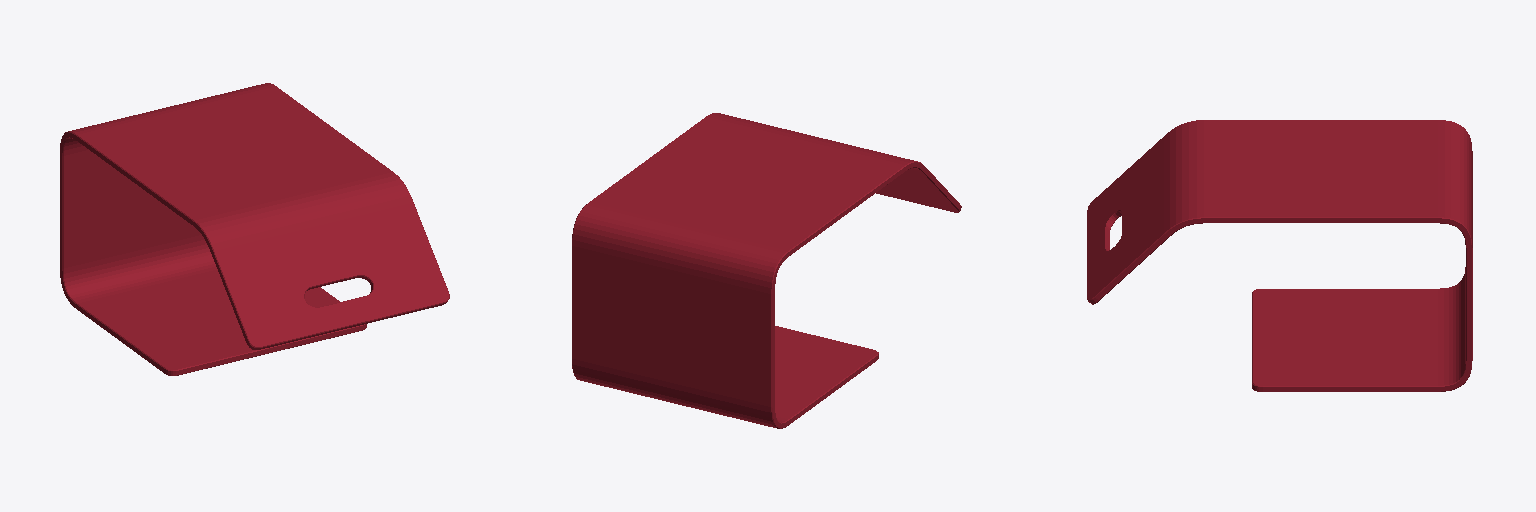
File: Artek_Kanto_Rack_mat(3).obj
3 views of the same model, side by side, from view 1: azimuth 30°, elevation 25°; view 2: azimuth 150°, elevation 25°; view 3: azimuth 270°, elevation 25° (orthographic).
Parts seen in each view (by area): view 1: Artek_Kanto_Rack_mat3; view 2: Artek_Kanto_Rack_mat3; view 3: Artek_Kanto_Rack_mat3.
Part boxes in pixels (left/top/right/bottom): Artek_Kanto_Rack_mat3: left=60, top=83, right=449, bottom=375; Artek_Kanto_Rack_mat3: left=572, top=113, right=961, bottom=428; Artek_Kanto_Rack_mat3: left=1087, top=120, right=1472, bottom=391.
Bounding box in the file's own units: 34 × 28.3 × 56.5.